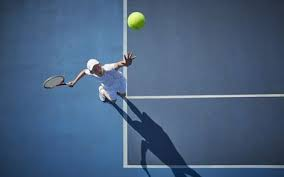tennis_ball: (127, 10, 147, 31)
